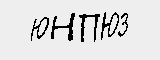З: (115, 11, 129, 36)
Н: (49, 10, 73, 44)
П: (81, 12, 97, 44)
Ю: (27, 15, 50, 41), (101, 9, 117, 39)
